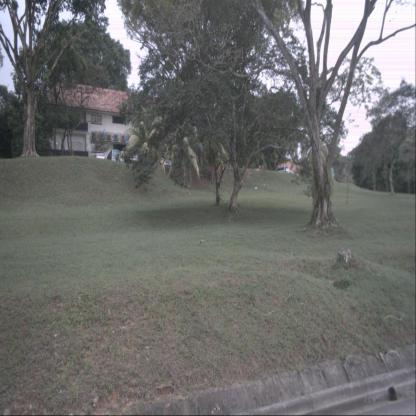vehicle-car: (107, 149, 120, 166), (273, 166, 290, 176), (94, 153, 105, 165)
